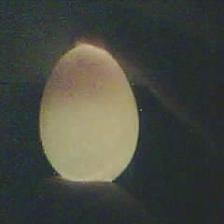infertile: (38, 42, 140, 187)
